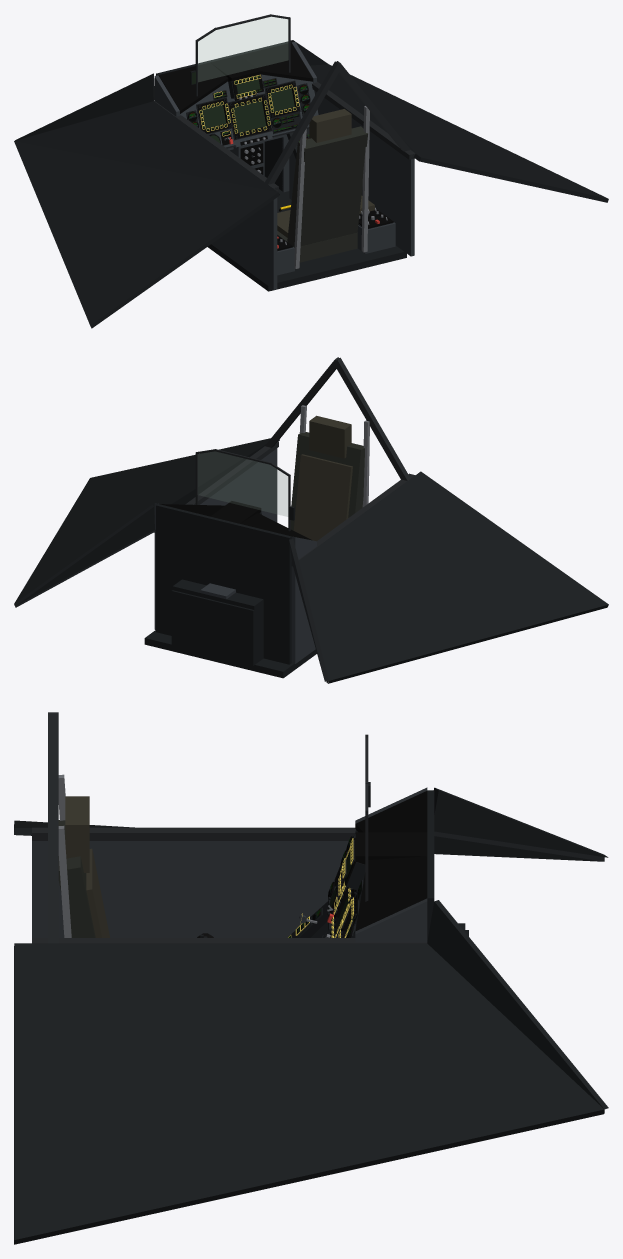
File: cockpit_modern.glb
3 views of the same model, one above another, from view 1: azimuth 30°, elevation 25°; view 2: azimuth 150°, elevation 25°; view 3: azimuth 270°, elevation 25° (orthographic). The views are drawn at different scales.
Parts seen in each view (by area): view 1: dark.008, dark.009, seat_95, hud_glass_69, panel_grey.009, black, panel_grey.007, dark_83, frame.002, cushion_97, seat_93, frame.001 (+12 smaller); view 2: dark.008, dark.009, dark, dark.013, hud_glass_69, cushion_96, panel_grey.009, seat_95, black, dark_83, cushion_97, panel_grey.007 (+7 smaller); view 3: dark.009, panel_grey.007, black, dark.008, frame, frame.003, panel_grey.010, frame.001, seat_95, cushion_97, cushion_96, dark (+1 smaller).
Boxes of the visible parts, x1=… form: dark.008: x1=14, y1=73, x2=279, y2=328; dark.009: x1=290, y1=40, x2=608, y2=202; seat_95: x1=287, y1=126, x2=367, y2=247; hud_glass_69: x1=198, y1=17, x2=288, y2=81; panel_grey.009: x1=292, y1=78, x2=414, y2=256; black: x1=158, y1=43, x2=312, y2=113; panel_grey.007: x1=211, y1=188, x2=277, y2=289; dark_83: x1=207, y1=189, x2=406, y2=291; frame.002: x1=265, y1=61, x2=342, y2=184; cushion_97: x1=309, y1=109, x2=351, y2=142; seat_93: x1=277, y1=231, x2=357, y2=262; frame.001: x1=301, y1=80, x2=415, y2=159; dark.008: x1=289, y1=471, x2=608, y2=683; dark.009: x1=14, y1=438, x2=279, y2=607; dark: x1=156, y1=504, x2=291, y2=664; dark.013: x1=171, y1=590, x2=254, y2=665; hud_glass_69: x1=198, y1=452, x2=287, y2=516; cushion_96: x1=293, y1=454, x2=352, y2=541; panel_grey.009: x1=154, y1=448, x2=277, y2=629; seat_95: x1=290, y1=432, x2=364, y2=530; black: x1=159, y1=501, x2=312, y2=540; dark_83: x1=144, y1=630, x2=316, y2=678; cushion_97: x1=309, y1=415, x2=351, y2=458; panel_grey.007: x1=291, y1=566, x2=315, y2=663; dark.009: x1=14, y1=900, x2=608, y2=1244; panel_grey.007: x1=32, y1=841, x2=348, y2=937; black: x1=355, y1=791, x2=427, y2=931; dark.008: x1=14, y1=787, x2=608, y2=861; frame: x1=32, y1=827, x2=355, y2=840; frame.003: x1=48, y1=714, x2=58, y2=943; panel_grey.010: x1=355, y1=898, x2=427, y2=942; frame.001: x1=32, y1=938, x2=427, y2=943; seat_95: x1=58, y1=820, x2=95, y2=937; cushion_97: x1=65, y1=796, x2=89, y2=872; cushion_96: x1=86, y1=848, x2=109, y2=937; dark: x1=427, y1=790, x2=434, y2=941.
Bounding box in the file's own units: 4.12 × 1.61 × 2.47.
Materials: 27 (6 with a texture image).
